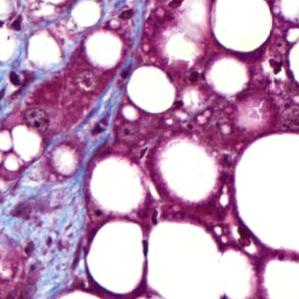steatosis: (85, 223, 148, 296), (159, 139, 219, 202), (124, 63, 176, 115), (208, 58, 251, 96), (85, 31, 125, 68)
